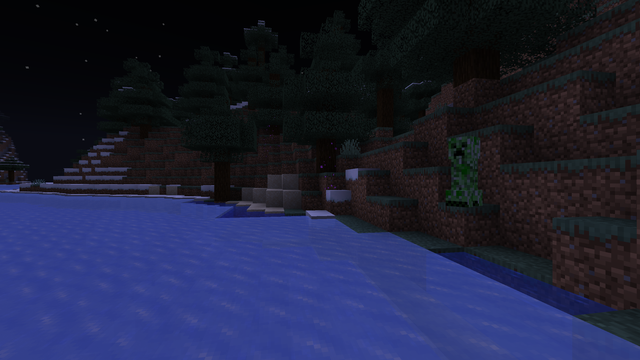creepers: (444, 132, 484, 206)
